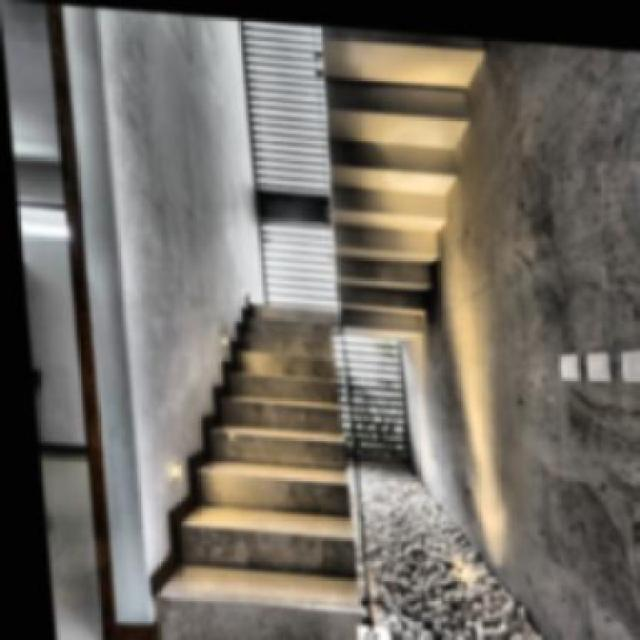stair: (121, 247, 354, 638)
